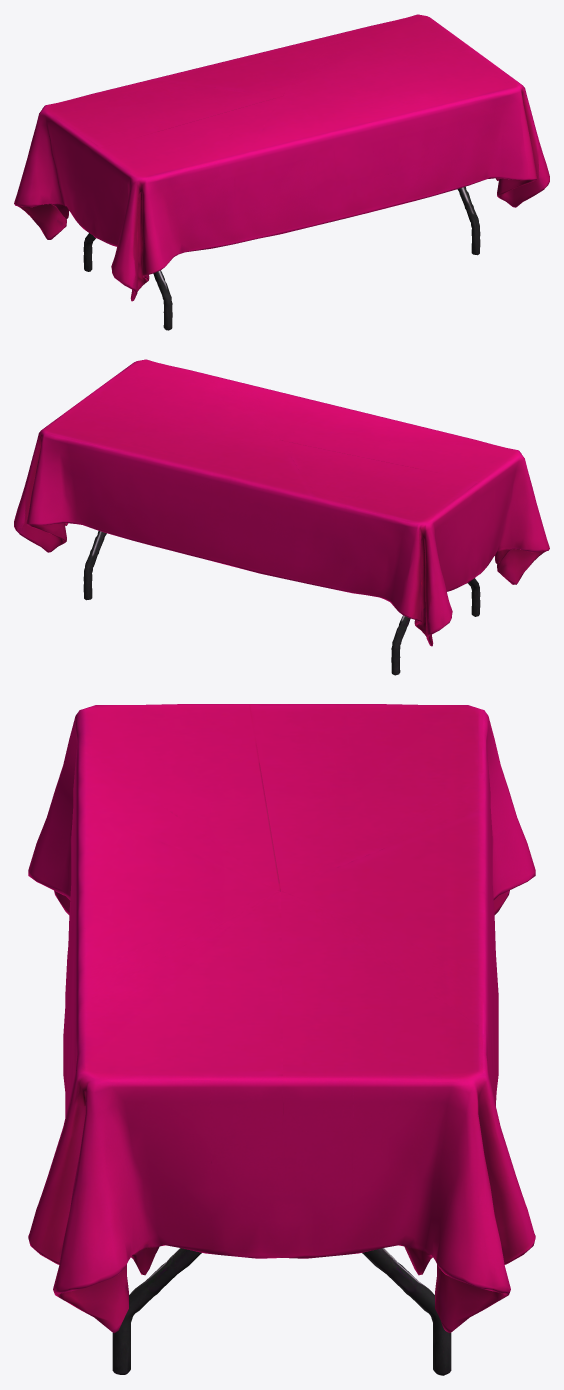
Rendered from BNQ_TBLE_FUCHSIA_LINE_0630194031_texture.glb.
The picture shows the model from 3 angles, top to bottom: view 1: azimuth 30°, elevation 25°; view 2: azimuth 150°, elevation 25°; view 3: azimuth 270°, elevation 25°; orthographic projection. The views are drawn at different scales.
Parts seen in each view (by area): view 1: Mesh_0; view 2: Mesh_0; view 3: Mesh_0.
Boxes of the visible parts, box(x1,y1,x2,y2) form: Mesh_0: box(14, 14, 549, 330); Mesh_0: box(14, 359, 549, 675); Mesh_0: box(28, 704, 535, 1375).
Bounding box in the file's own units: 2.07 × 0.762 × 1.05.
Materials: 1 (1 with a texture image).
